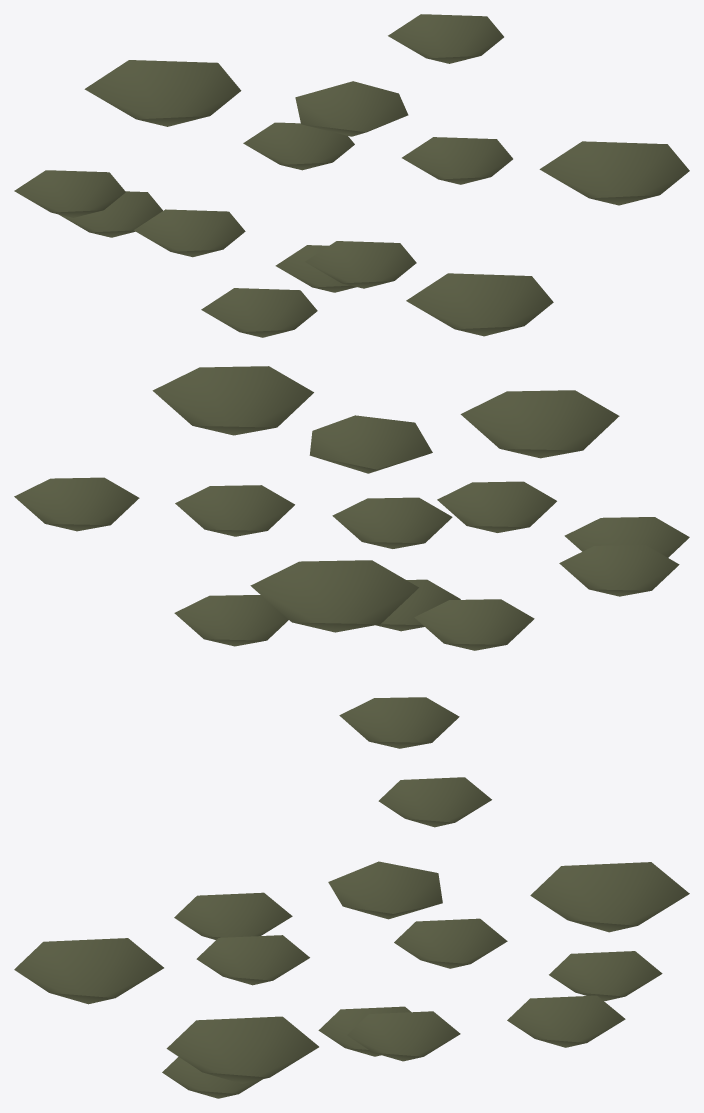
File: SM_flower_01.FBX
The picture shows the model from 3 angles, top to bottom: view 1: azimuth 30°, elevation 25°; view 2: azimuth 150°, elevation 25°; view 3: azimuth 270°, elevation 25°; orthographic projection. The views are drawn at different scales.
Visible parts, largest first — view 1: SM_flower_01_LOD0; view 2: SM_flower_01_LOD0; view 3: SM_flower_01_LOD0.
Part boxes in pixels (left/top/right/bottom): SM_flower_01_LOD0: left=14, top=14, right=689, bottom=337; SM_flower_01_LOD0: left=14, top=366, right=689, bottom=748; SM_flower_01_LOD0: left=14, top=777, right=689, bottom=1098.
Size of what is drawn, in the model's own units: 89.36 by 91.18 by 26.71.
